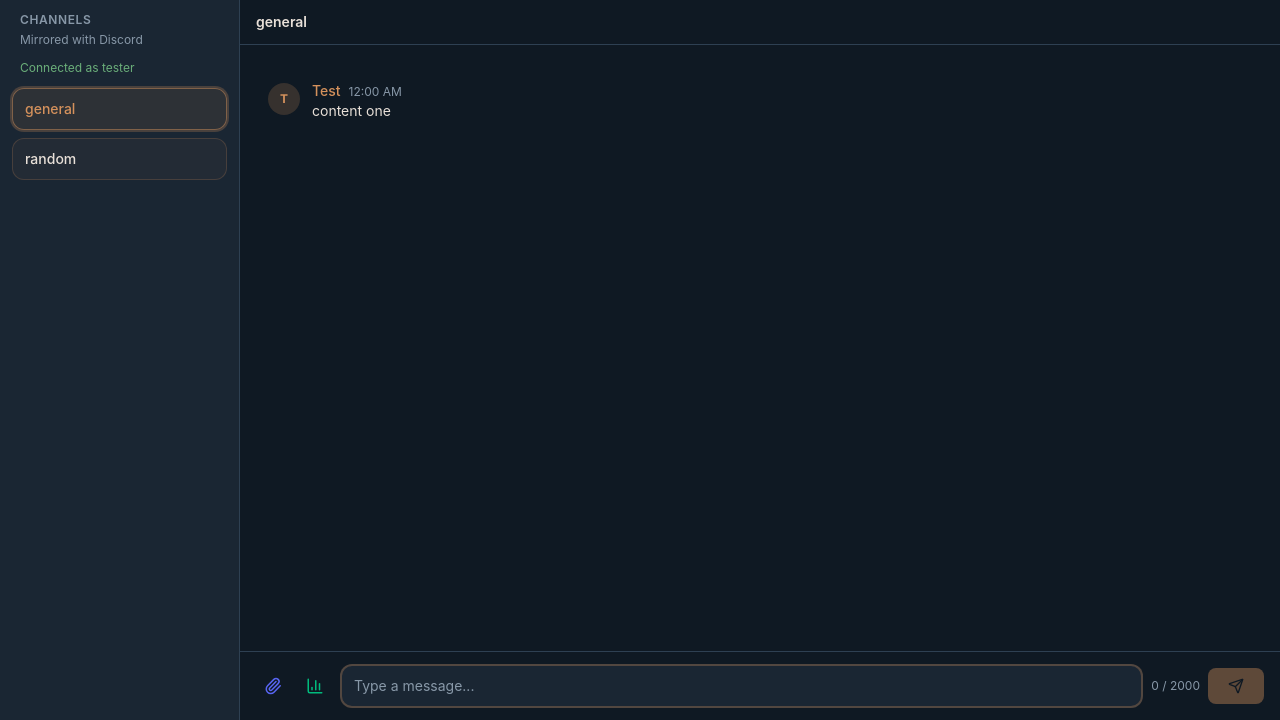
Test: CommunityPage: a full read after every answer (R422.2) › a sent message a live reload already shows is shown once when the send’s answer lands
This screenshot has width=1280, height=720.
Type "hello there" into the field labelled "Type a message..." at (742, 686), box [340,664,1143,708]
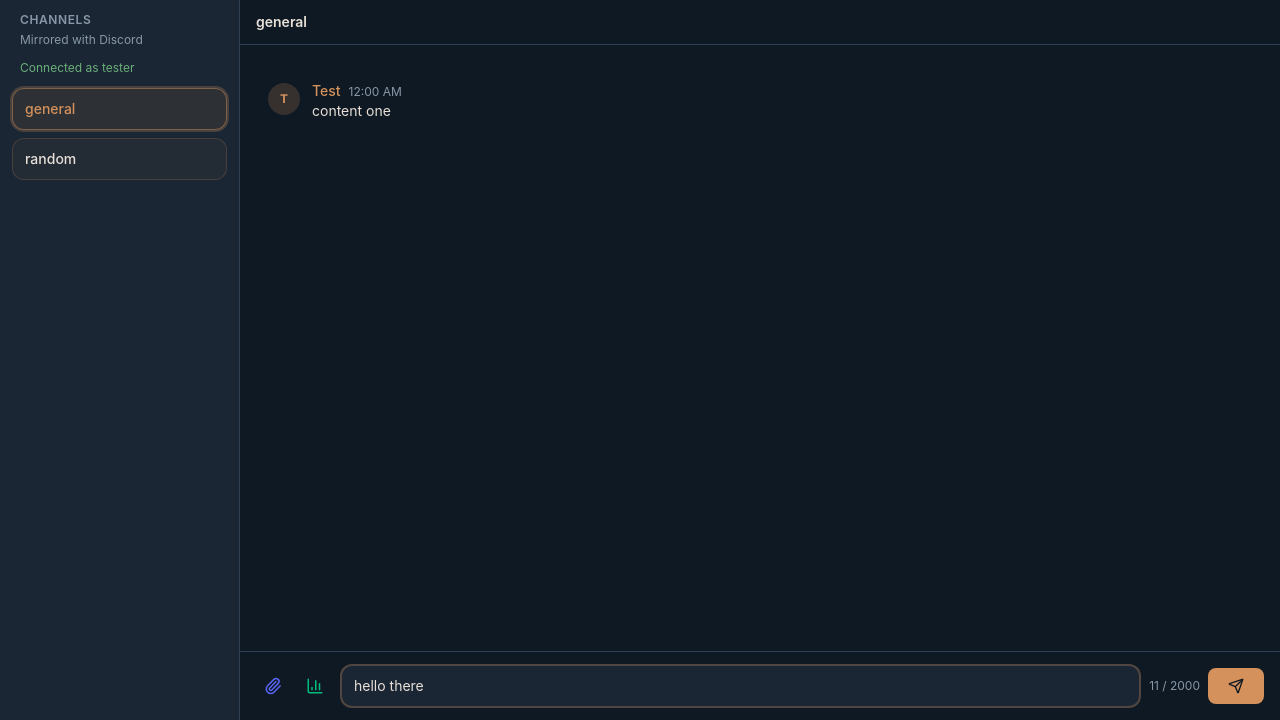
Click the button named "Send message" at (1236, 686), box [1208,668,1264,704]
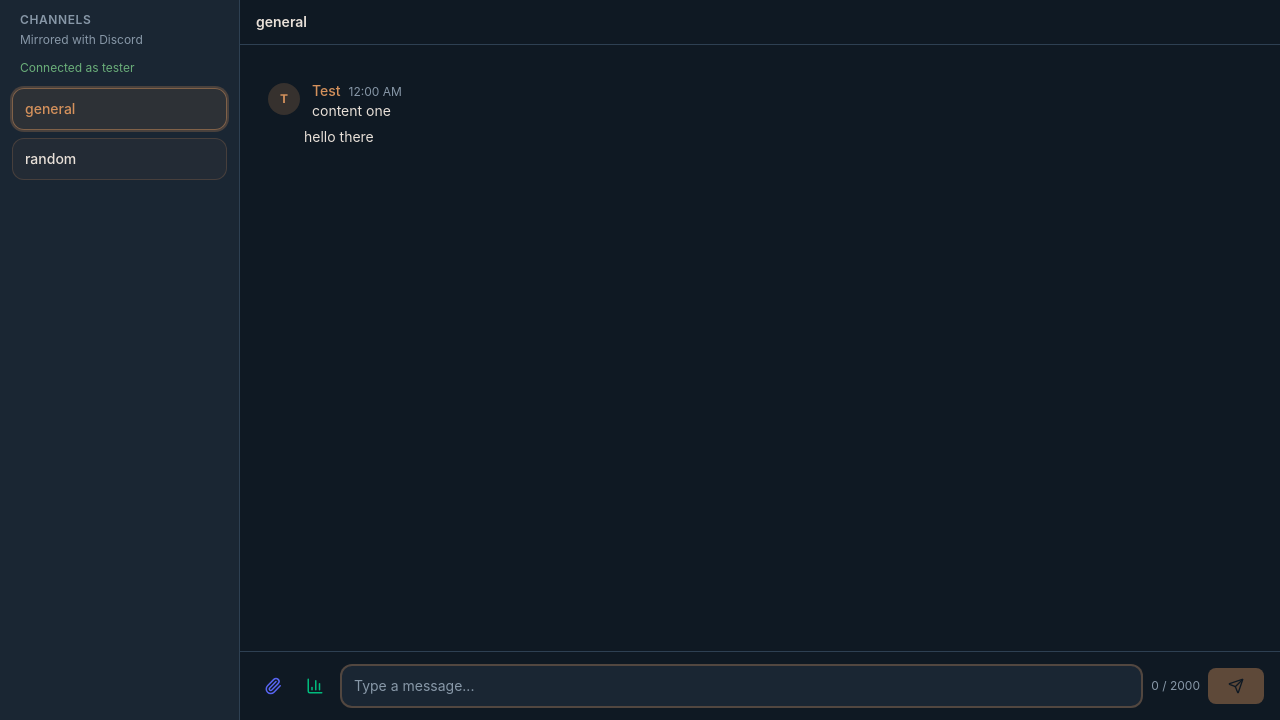
Now the text "hello there" is shown once, box [304,127,374,147]
